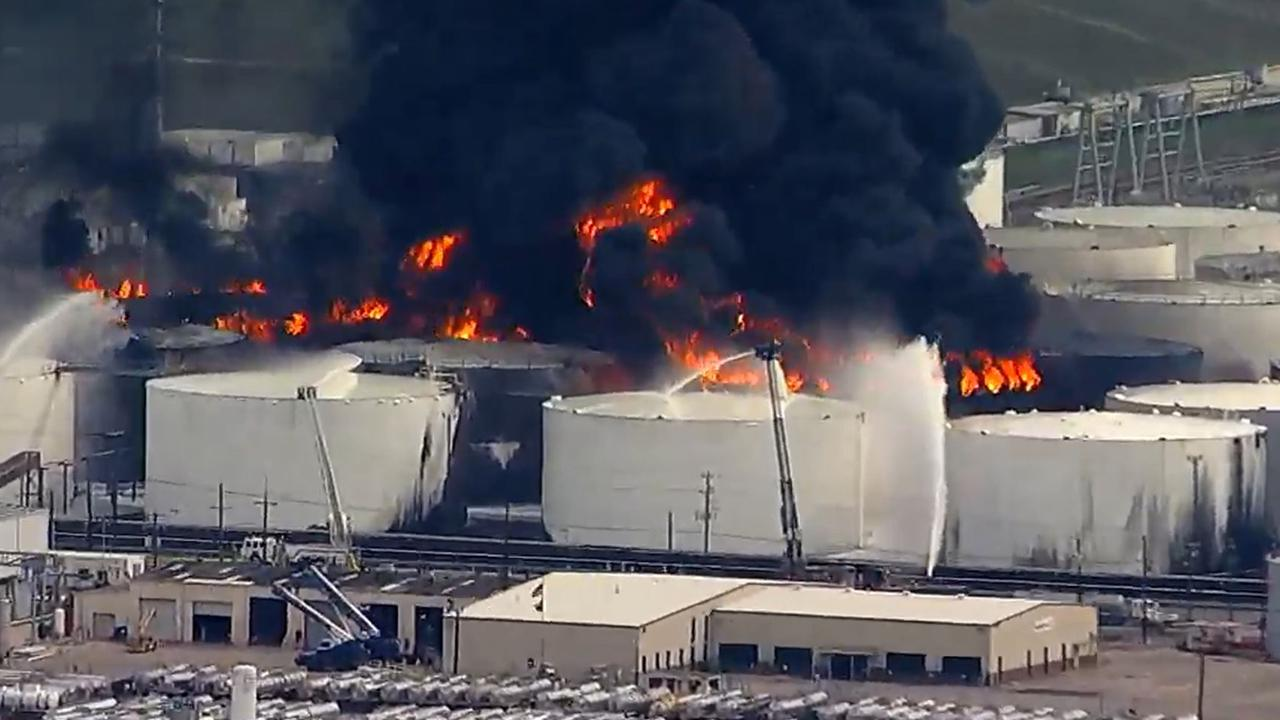fire: (644, 281, 840, 396), (543, 170, 706, 257), (939, 339, 1046, 400), (416, 293, 540, 344), (386, 231, 461, 279), (66, 266, 150, 305), (215, 311, 312, 342), (316, 293, 388, 325), (219, 268, 280, 298)
